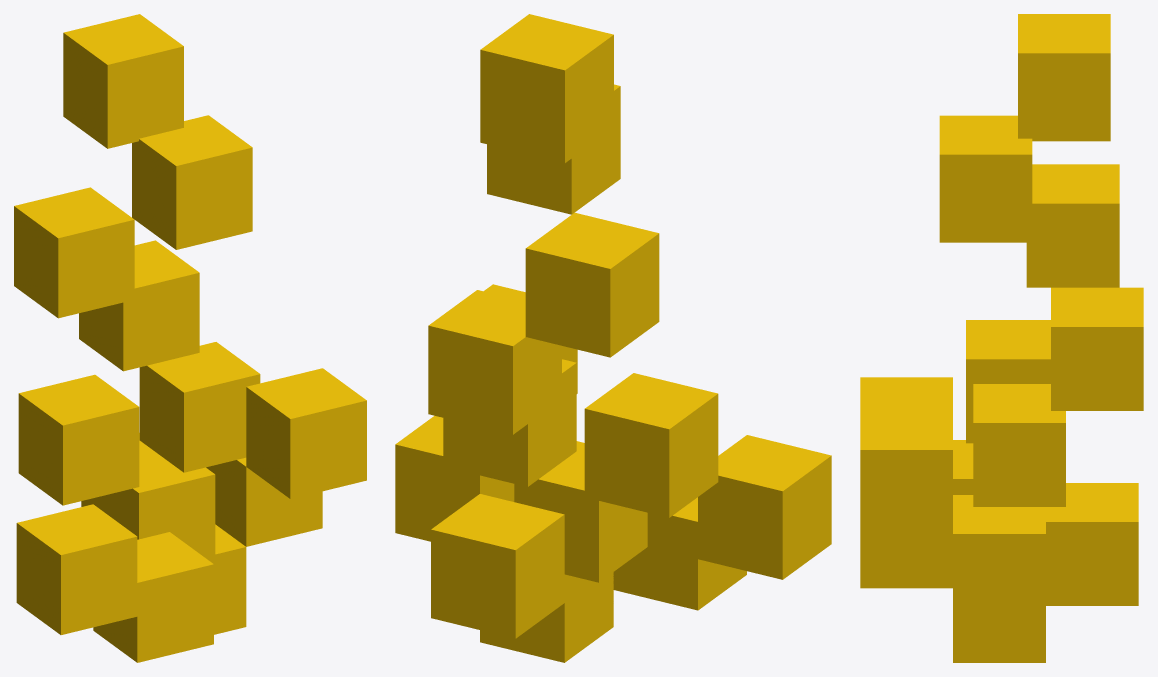
Rendered from Fire.fbx.
3 renders of one model, left to right at view 1: azimuth 30°, elevation 25°; view 2: azimuth 150°, elevation 25°; view 3: azimuth 270°, elevation 25°, orthographic. The views are drawn at different scales.
Visible parts, largest first — view 1: Fire; view 2: Fire; view 3: Fire.
Boxes of the visible parts, x1=… form: Fire: x1=14, y1=14, x2=366, y2=662; Fire: x1=395, y1=14, x2=831, y2=662; Fire: x1=860, y1=14, x2=1143, y2=662.
Size of the model in its own units: 40 by 70.66 by 30.54.
